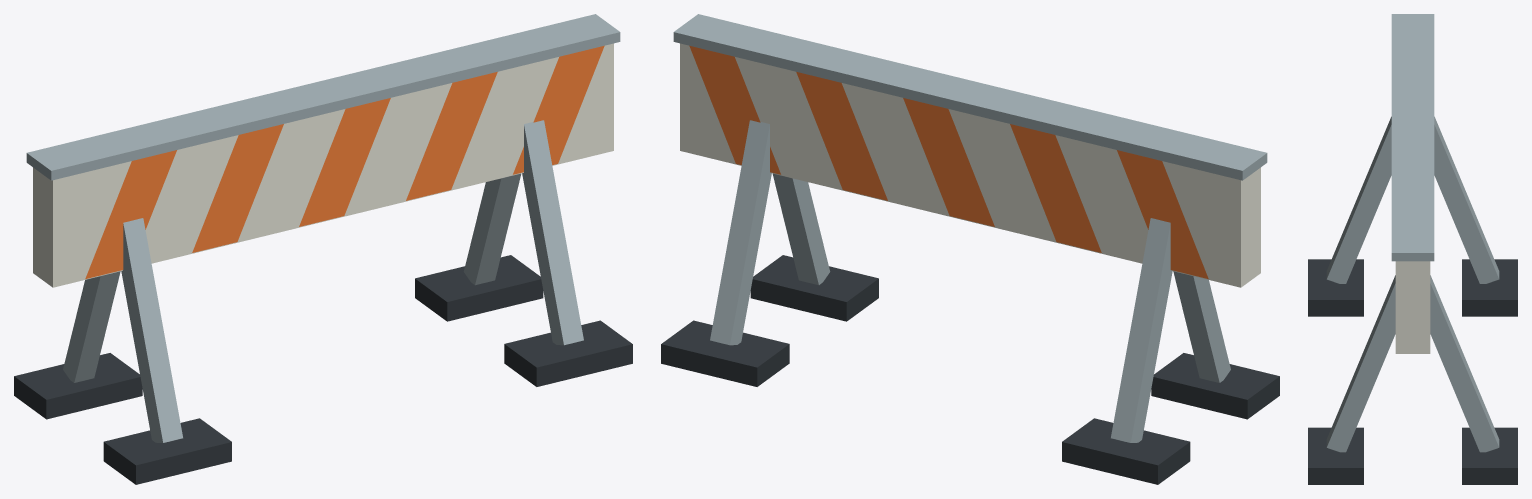
File: road_barrier_v2.glb
The picture shows the model from 3 angles, left to right: view 1: azimuth 30°, elevation 25°; view 2: azimuth 150°, elevation 25°; view 3: azimuth 270°, elevation 25°; orthographic projection. The views are drawn at different scales.
Visible parts, largest first — view 1: Road_Barrier; view 2: Road_Barrier; view 3: Road_Barrier.
Boxes of the visible parts, x1,y1,x2,y2 form: Road_Barrier: (14,14,632,484); Road_Barrier: (661,14,1279,484); Road_Barrier: (1308,14,1517,484).
Size of the model in its own units: 2.13 by 1.03 by 0.79.
